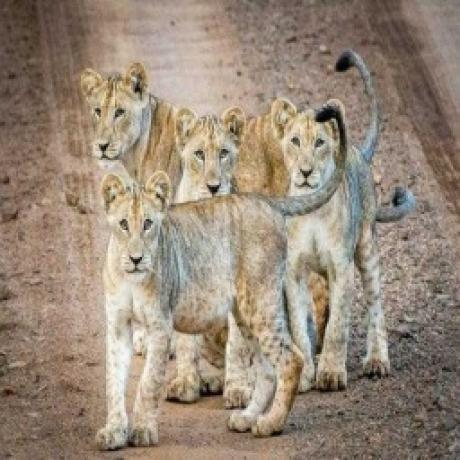Lion: (98, 169, 307, 442), (268, 49, 402, 397), (80, 59, 184, 188), (172, 94, 274, 194)
